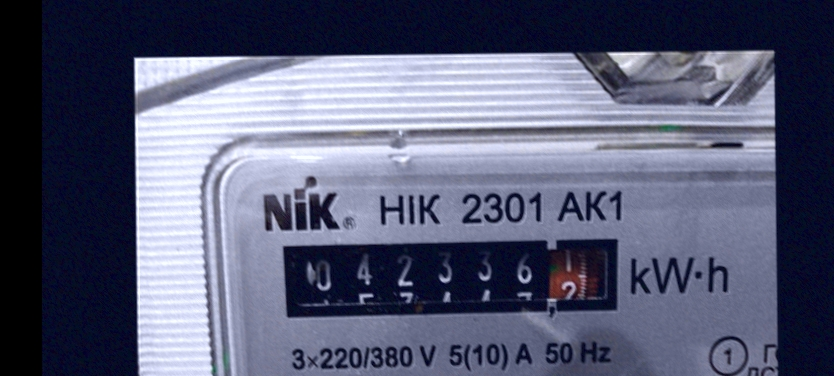0: (315, 259, 335, 295)
1: (562, 248, 576, 277)
2: (396, 254, 416, 291), (560, 282, 579, 303)
3: (436, 250, 456, 288), (474, 250, 495, 286)
4: (356, 252, 375, 289)
6: (514, 252, 536, 287)
screen: (276, 231, 629, 328)
